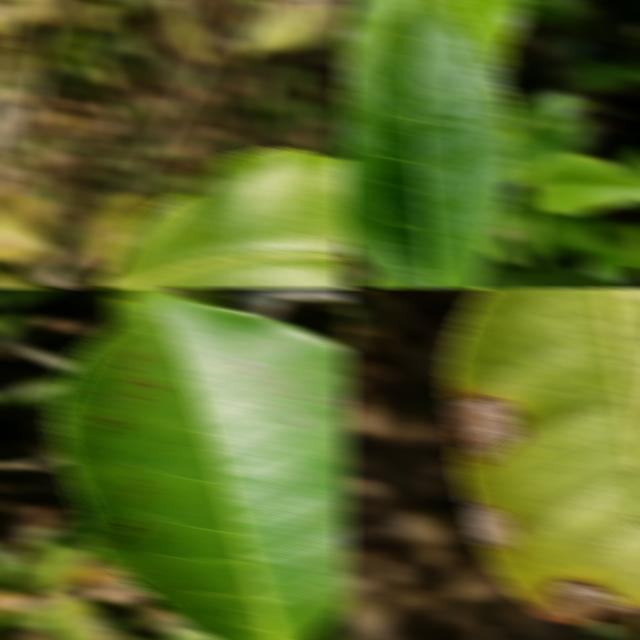Leaf: (50, 293, 350, 640), (444, 288, 640, 631), (340, 0, 516, 288), (98, 148, 350, 288), (529, 153, 640, 216), (236, 0, 349, 61), (26, 516, 98, 595), (444, 0, 528, 66), (88, 193, 153, 272), (340, 0, 410, 73), (0, 187, 58, 260), (475, 264, 630, 288), (45, 594, 109, 640), (163, 0, 208, 62), (101, 288, 225, 305), (0, 260, 61, 288), (616, 146, 640, 178)
